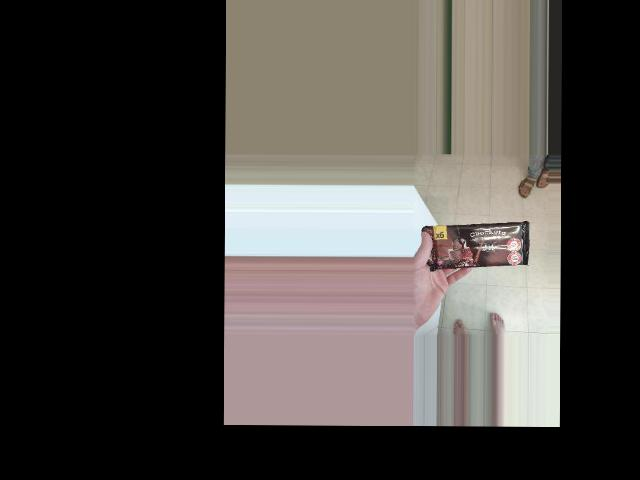chocolate: (476, 172, 534, 282)
